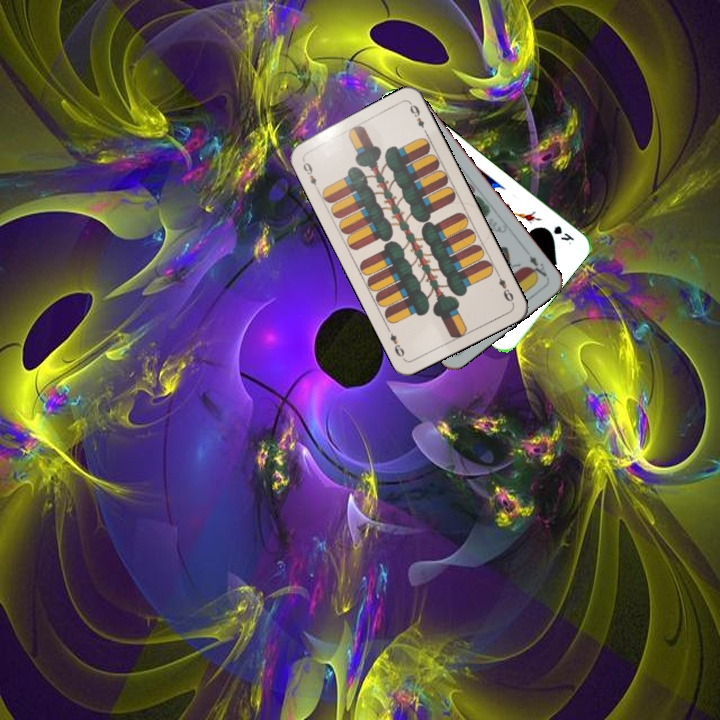E9: (298, 155, 321, 193), (492, 268, 516, 304)
EA: (524, 251, 550, 281)
GK: (549, 221, 577, 248)
